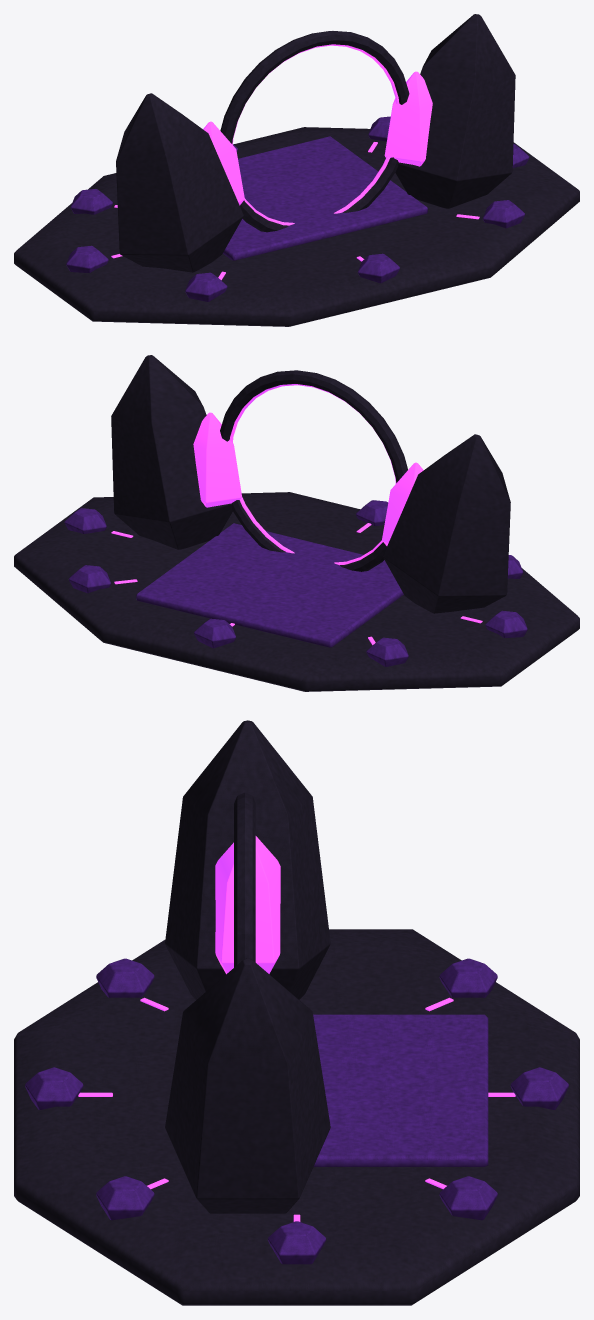
The model's file is conclave_matrice_de_cristal.gltf.
3 renders of one model, top to bottom at view 1: azimuth 30°, elevation 25°; view 2: azimuth 150°, elevation 25°; view 3: azimuth 270°, elevation 25°, orthographic. The views are drawn at different scales.
Visible parts, largest first — view 1: Root.004_Geometry, Rotor_0.001_Geometry; view 2: Root.004_Geometry, Rotor_0.001_Geometry; view 3: Root.004_Geometry, Rotor_0.001_Geometry.
Boxes of the visible parts, box(x1,y1,x2,y2) form: Root.004_Geometry: box(14, 14, 579, 326); Rotor_0.001_Geometry: box(220, 31, 409, 232); Root.004_Geometry: box(14, 355, 579, 691); Rotor_0.001_Geometry: box(220, 370, 407, 571); Root.004_Geometry: box(14, 720, 579, 1305); Rotor_0.001_Geometry: box(234, 792, 255, 967).
Bounding box in the file's own units: 5.88 × 2.44 × 3.92.
3 materials, 2 textured.
